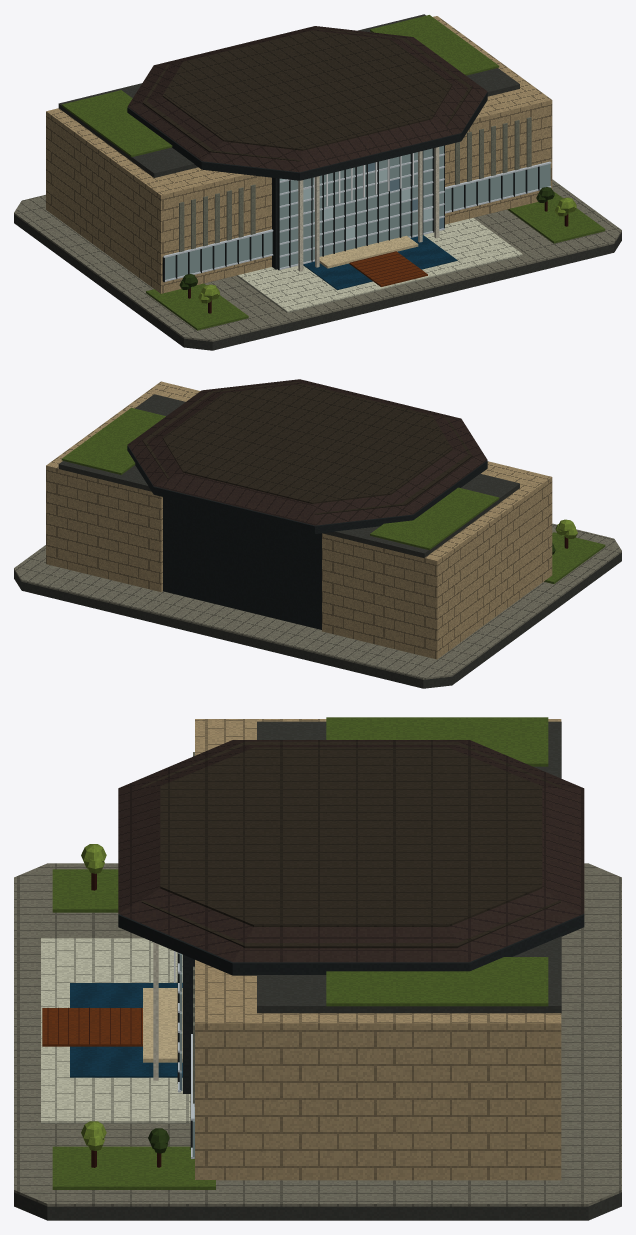
Rendered from hunan-museum.glb.
3 views of the same model, one above another, from view 1: azimuth 30°, elevation 25°; view 2: azimuth 150°, elevation 25°; view 3: azimuth 270°, elevation 25° (orthographic). The views are drawn at different scales.
Visible parts, largest first — view 1: 湖南省博物馆; view 2: 湖南省博物馆; view 3: 湖南省博物馆.
Boxes of the visible parts, <box> form: 湖南省博物馆: <box>14,14,621,350</box>; 湖南省博物馆: <box>14,379,621,688</box>; 湖南省博物馆: <box>14,717,621,1220</box>.
Bounding box in the file's own units: 11.4 × 3.34 × 8.6.
Materials: 22 (17 with a texture image).
